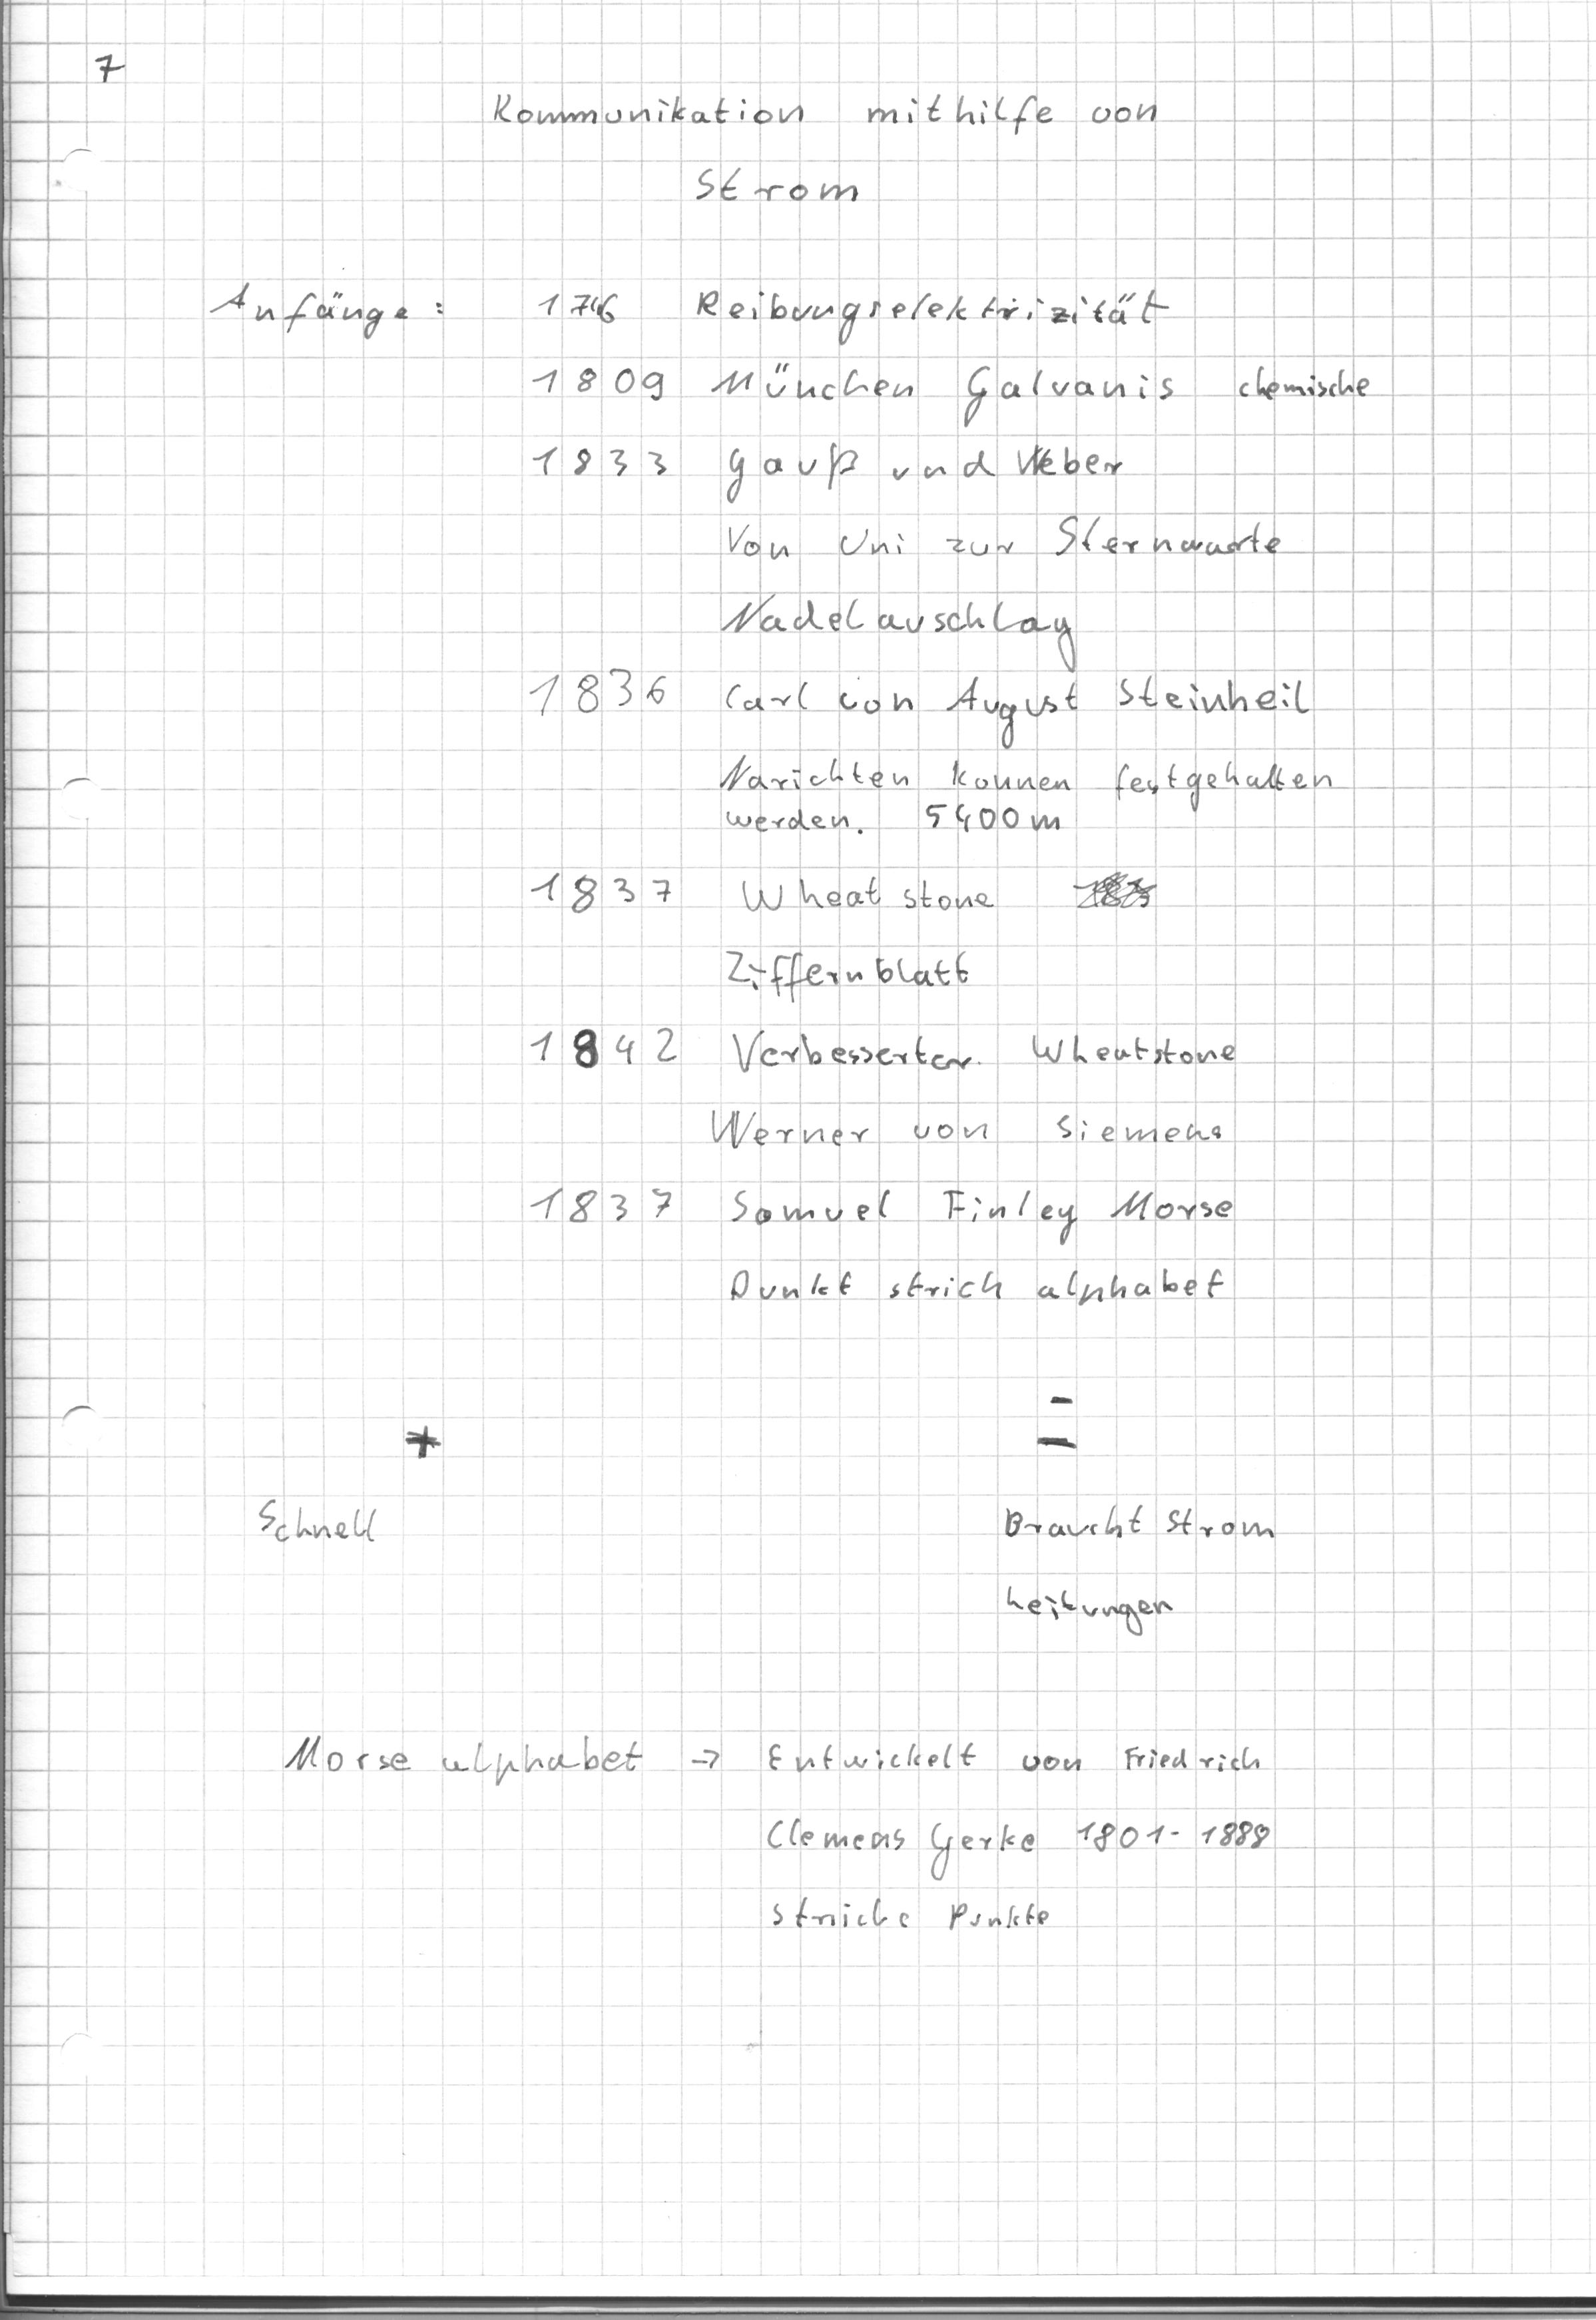word: (274, 1723, 1274, 1944), (525, 861, 1247, 1161), (523, 587, 1342, 842), (519, 356, 1388, 569), (522, 1171, 1240, 1323), (485, 81, 1163, 216), (203, 260, 1176, 347), (991, 1490, 1290, 1657), (246, 1407, 455, 1556)
